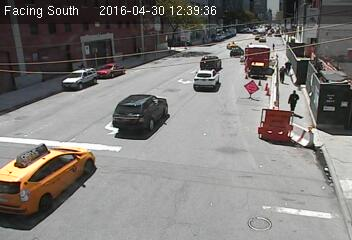neg: (86, 129, 105, 155), (176, 84, 192, 105), (52, 170, 68, 191), (135, 109, 149, 128), (160, 156, 172, 173), (229, 153, 240, 167)
pos: (284, 85, 304, 112), (275, 64, 288, 81), (282, 59, 293, 75), (271, 40, 276, 48)
